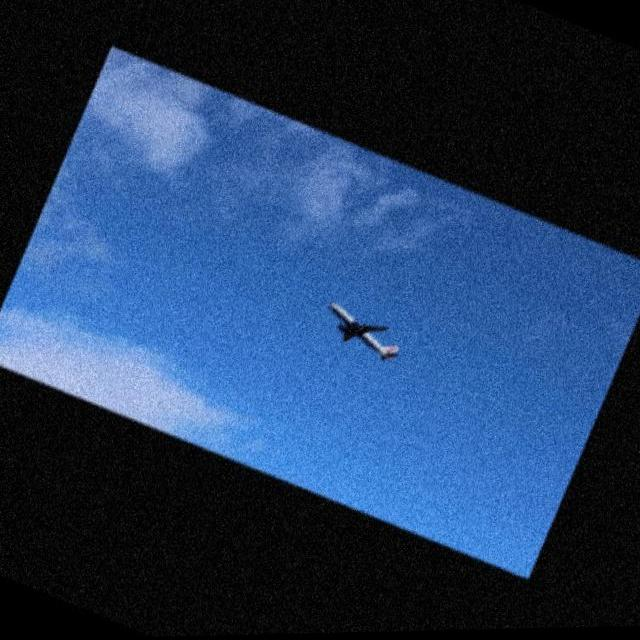airplane: (327, 298, 406, 365)
